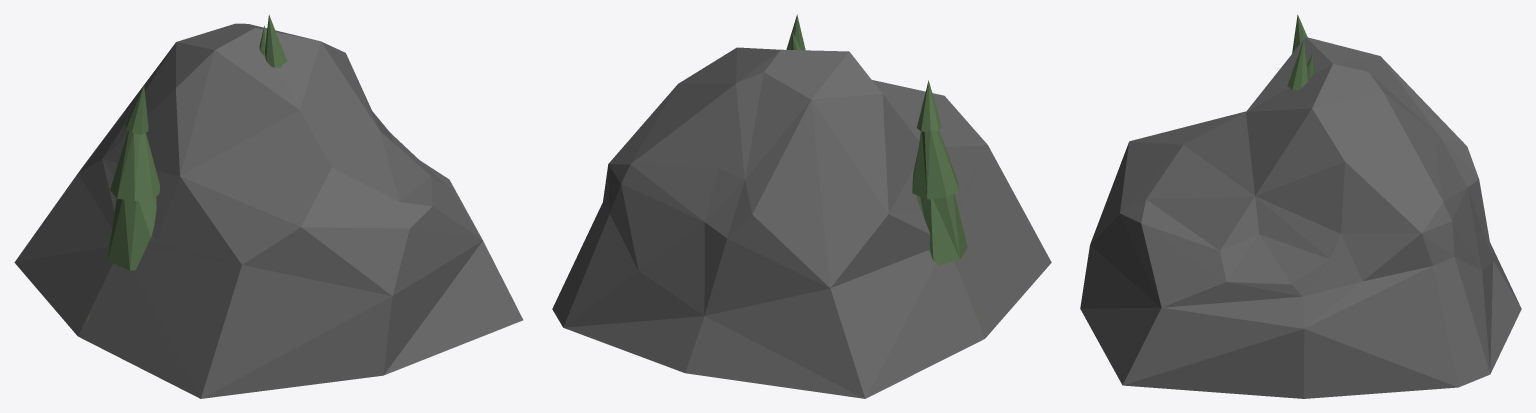
File: nature_assets.fbx
3 views of the same model, side by side, from view 1: azimuth 30°, elevation 25°; view 2: azimuth 150°, elevation 25°; view 3: azimuth 270°, elevation 25° (orthographic). The views are drawn at different scales.
Visible parts, largest first — view 1: Rock Large, Pine.002, Pine.003; view 2: Rock Large, Pine.002; view 3: Rock Large, Pine.003.
Part boxes in pixels (box(x1,y1,x2,y2)): Rock Large: box(14, 23, 523, 398); Pine.002: box(86, 85, 159, 321); Pine.003: box(265, 14, 287, 67); Rock Large: box(552, 47, 1051, 398); Pine.002: box(912, 80, 979, 320); Rock Large: box(1080, 37, 1521, 398); Pine.003: box(1287, 39, 1308, 90).
Size of the model in its own units: 1992 by 1393 by 2064.
